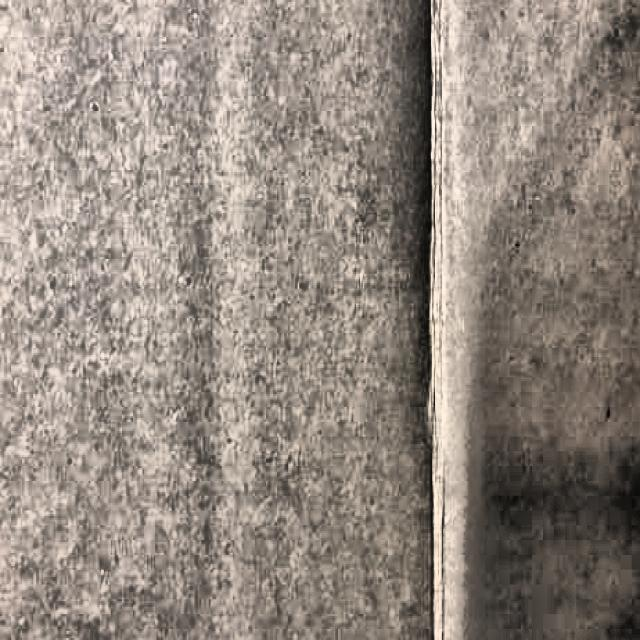cardboard: (0, 0, 640, 640), (428, 0, 640, 640)
